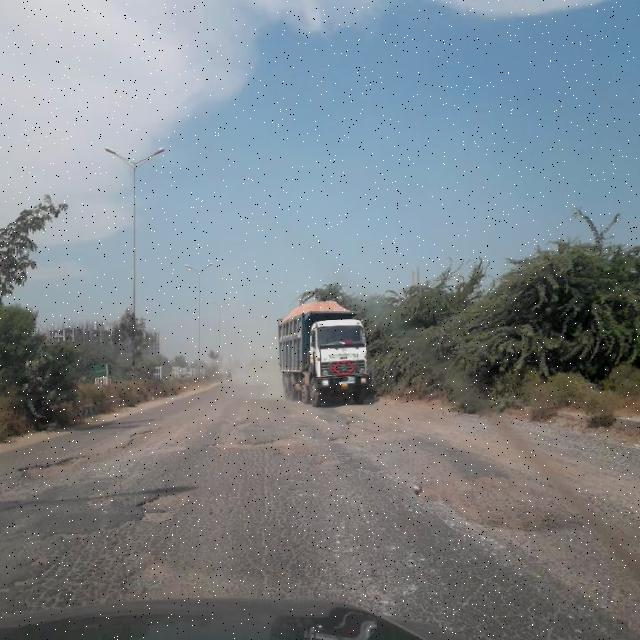D00: (252, 451, 278, 602)
D20: (1, 452, 579, 622)
D40: (16, 413, 179, 487), (410, 463, 572, 537), (120, 555, 236, 599), (332, 408, 409, 452), (130, 483, 206, 526), (205, 427, 296, 458), (40, 519, 89, 548)
